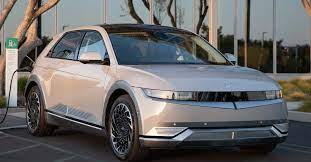Honda Ioniq: (21, 20, 291, 162)
